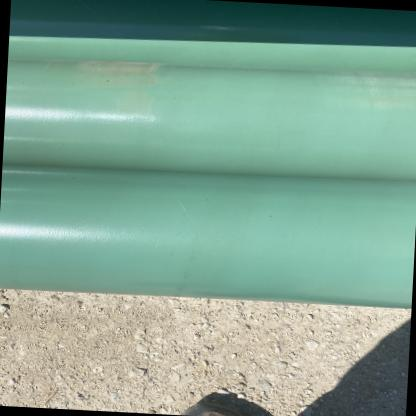clean: (96, 190, 266, 268)
